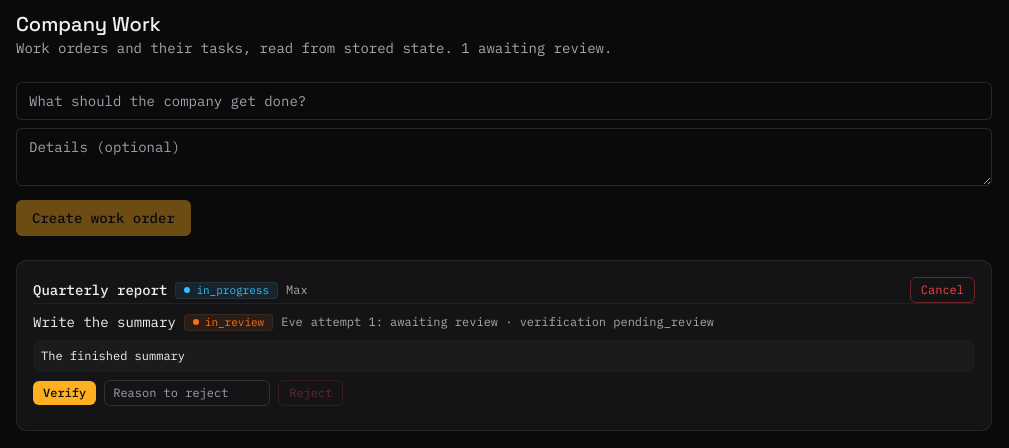
Test case: Work page › needs a reason to reject
The width and height of the screenshot is (1009, 448).
Expected: the button "Reject" is disabled, x1=278 y1=380 x2=343 y2=406
In the field named "Rejection reason": x=187, y=393 x1=104 y1=380 x2=270 y2=406, type "too thin"
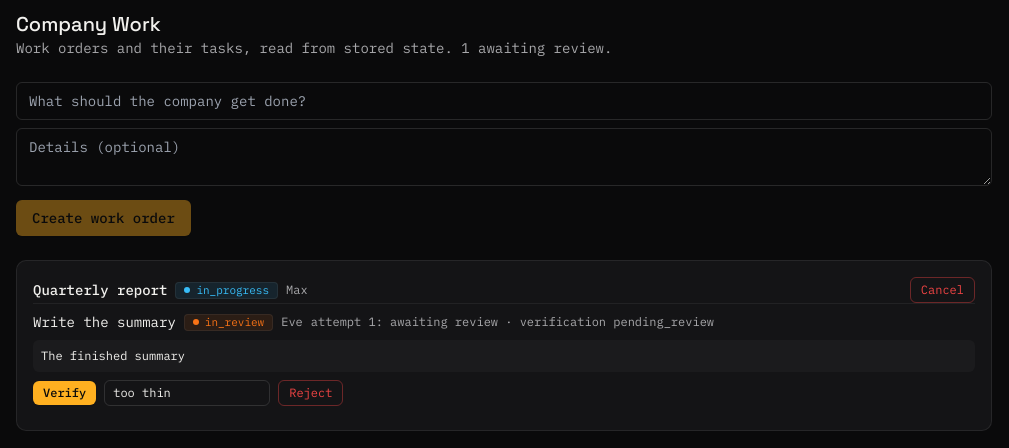
Now the button "Reject" is enabled, box x1=278 y1=380 x2=343 y2=406
